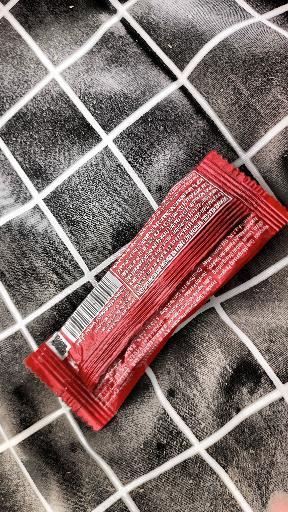chocho: (25, 144, 284, 420)
